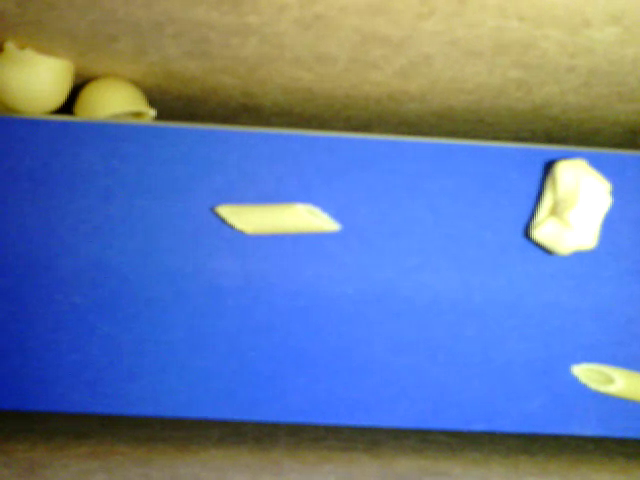penne: (207, 200, 345, 235), (568, 362, 639, 405)
shell: (1, 35, 80, 119), (73, 79, 160, 124)
tortellini: (523, 155, 614, 255)
